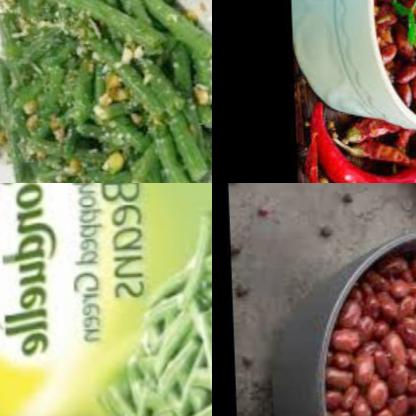fasol: (0, 0, 212, 183), (96, 211, 212, 416), (316, 246, 416, 416), (366, 0, 416, 115)
hot pepper: (297, 111, 416, 183), (301, 127, 356, 183), (337, 138, 416, 169), (341, 117, 399, 138)
